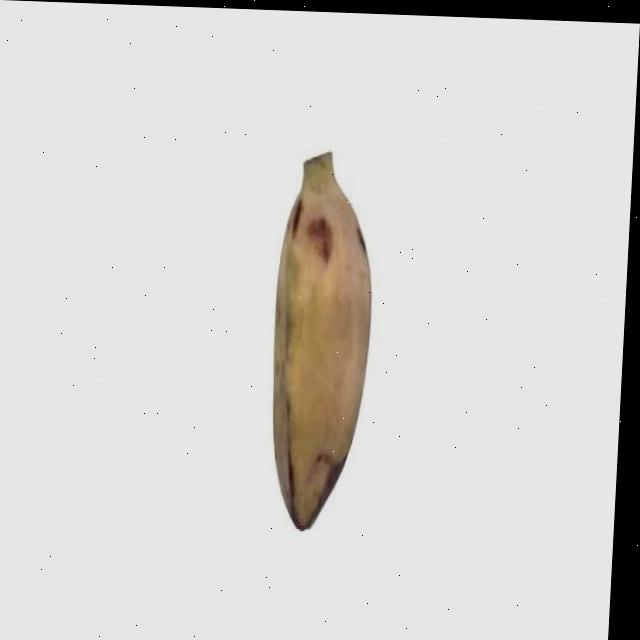banana: (261, 146, 383, 534)
